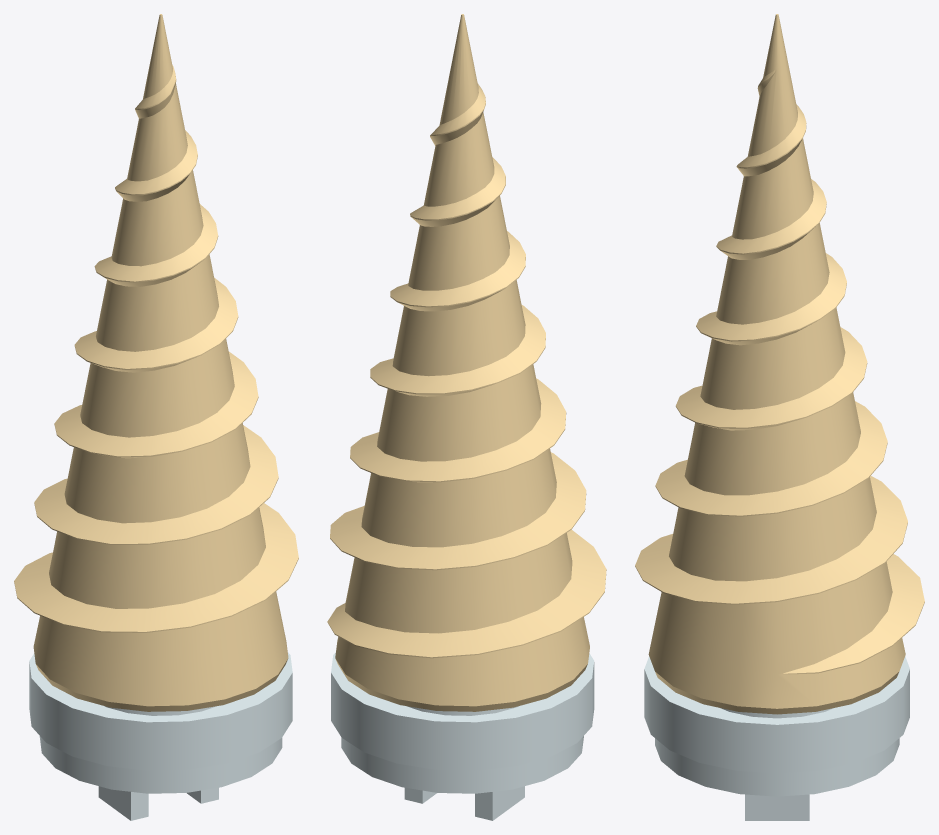
File: Drill.fbx
The picture shows the model from 3 angles, left to right: view 1: azimuth 30°, elevation 25°; view 2: azimuth 150°, elevation 25°; view 3: azimuth 270°, elevation 25°; orthographic projection.
Parts seen in each view (by area): view 1: drillBit, base; view 2: drillBit, base; view 3: drillBit, base.
Part boxes in pixels (x1,y1,x2,y2): drillBit: (14, 14, 298, 711); base: (29, 652, 292, 820); drillBit: (327, 14, 606, 711); base: (331, 652, 594, 820); drillBit: (635, 14, 924, 714); base: (644, 656, 909, 820).
Bounding box in the file's own units: 2.31 × 7.09 × 2.37.
